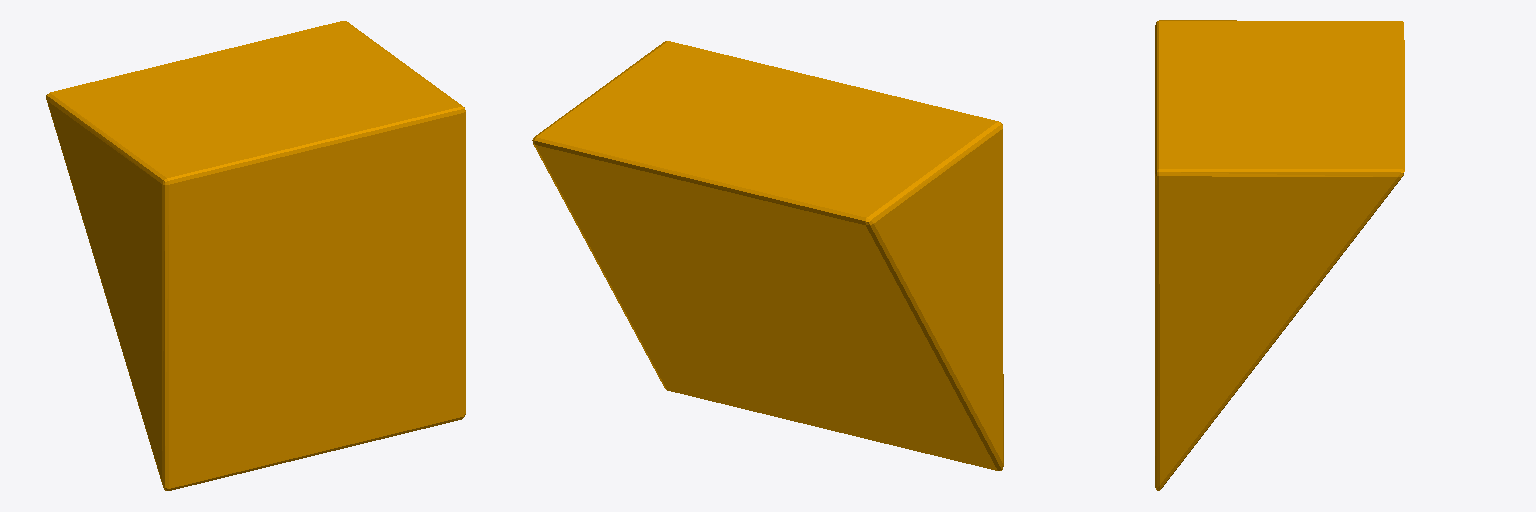
The robot description file, URDF, robot "object":
<?xml version="1.0"?>
<robot name="object">
  <link name="object">
    <visual>
      <origin xyz="0 0 0"/>
      <geometry>
        <mesh filename="orange_ramp.obj" scale="1 0.7 1"/>
      </geometry>
    </visual>
    <collision>
      <origin xyz="0 0 0"/>
      <geometry>
        <mesh filename="orange_ramp.obj" scale="1 0.7 1"/>
      </geometry>
    </collision>

  </link>
</robot>

--- Render facts (derived) ---
3 views of the same robot in one strip: view 1: azimuth 30°, elevation 25°; view 2: azimuth 150°, elevation 25°; view 3: azimuth 270°, elevation 25° (orthographic).
Model object with 1 links and 0 joints (none), rooted at object, posed all joints at 0.
Visible links, largest first — view 1: object; view 2: object; view 3: object.
Link boxes in pixels (left/top/right/bottom): object: left=46, top=21, right=465, bottom=490; object: left=532, top=41, right=1003, bottom=470; object: left=1155, top=20, right=1404, bottom=490.
Bounding box of the posed robot: 2 × 1.38 × 1.97 m (x, y, z).
Meshes: 1 distinct files referenced, 1 mesh visuals loaded (1 OBJ).
